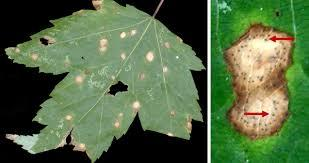leaf_spot: (7, 12, 200, 151)
